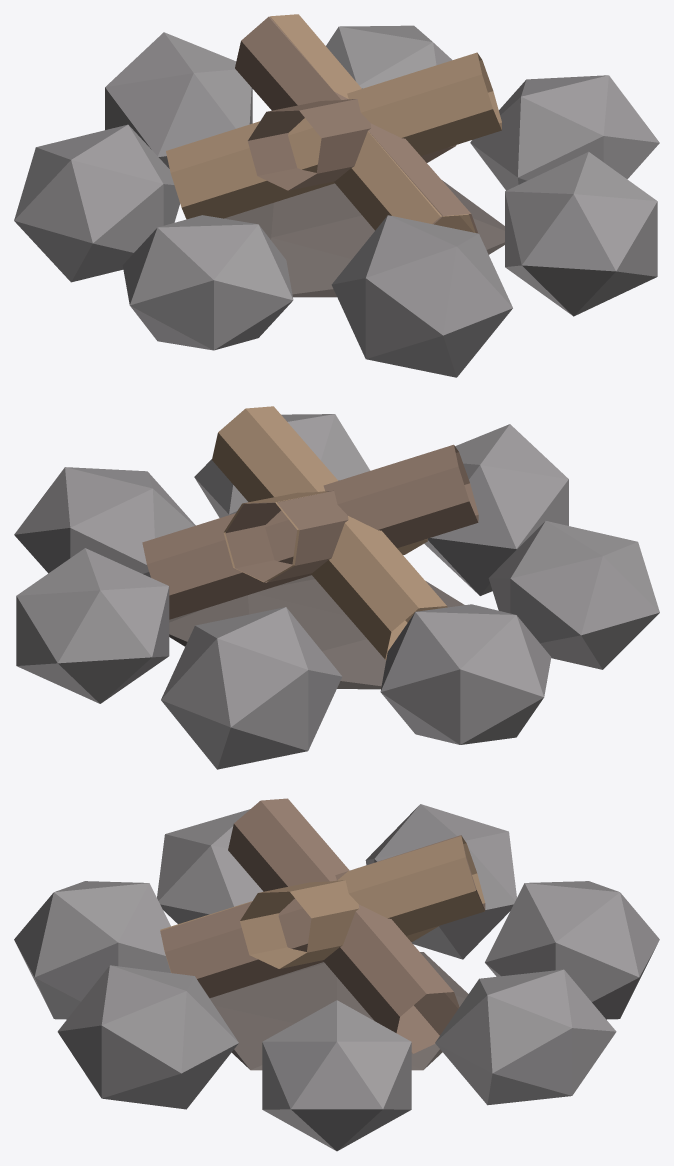
3 views of the same model, one above another, from view 1: azimuth 30°, elevation 25°; view 2: azimuth 150°, elevation 25°; view 3: azimuth 270°, elevation 25° (orthographic). The views are drawn at different scales.
Visible parts, largest first — view 1: C12; view 2: C12; view 3: C12.
Part boxes in pixels (x1,y1,x2,y2): C12: (14, 14, 659, 377); C12: (14, 406, 659, 769); C12: (14, 798, 659, 1151).
Bounding box in the file's own units: 1.15 × 0.3913 × 1.18.
